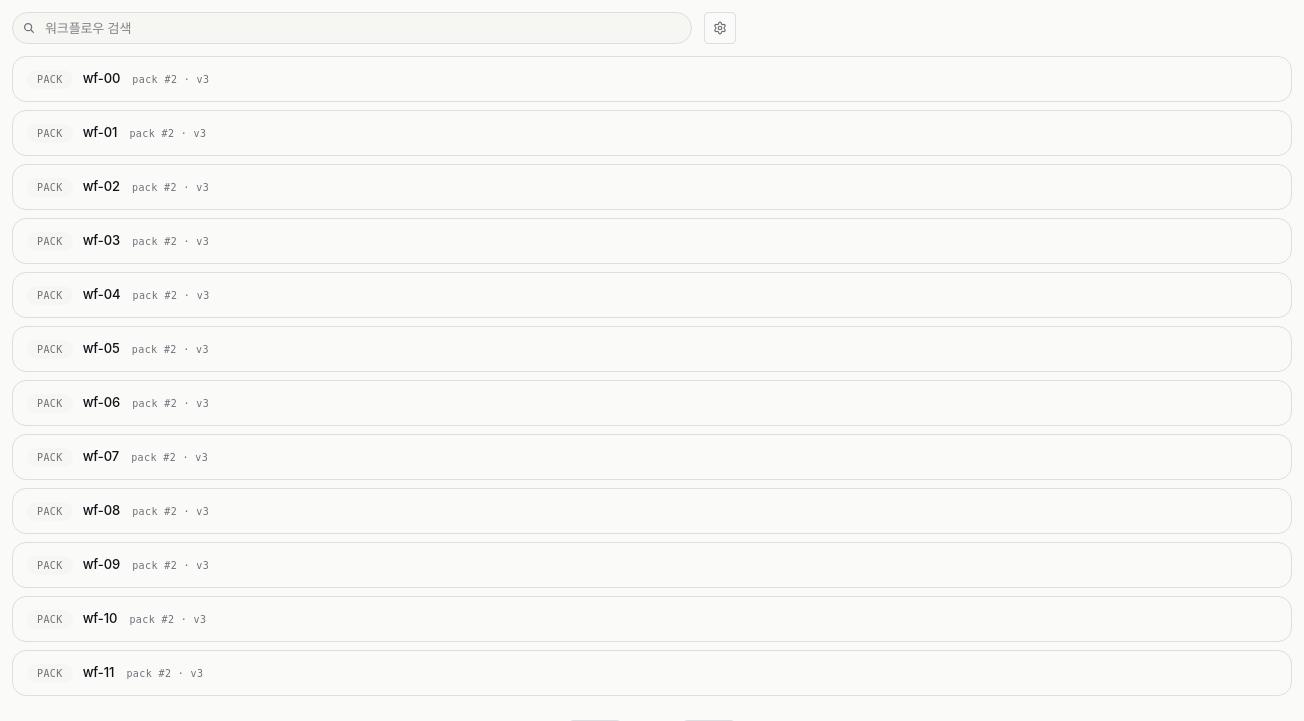
Test: WorkflowListView › 검색바 입력 후 dropdown 항목 클릭 시 그리드가 그 워크플로우만 남고 필터 칩이 표시된다
In the field with test id "wl-search-input": (352,28) [12,12,692,44], type "wf-15"
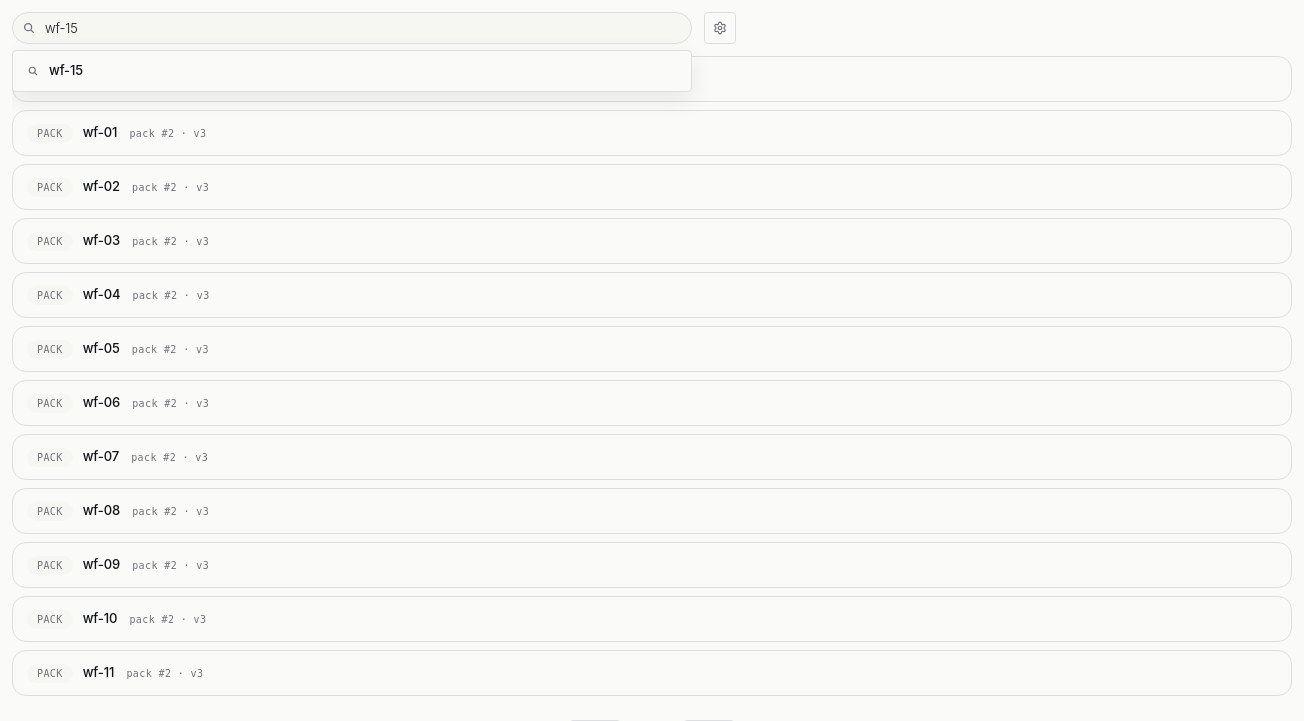
Click the button with test id "wl-search-item-16": (66,70) [13,51,691,90]
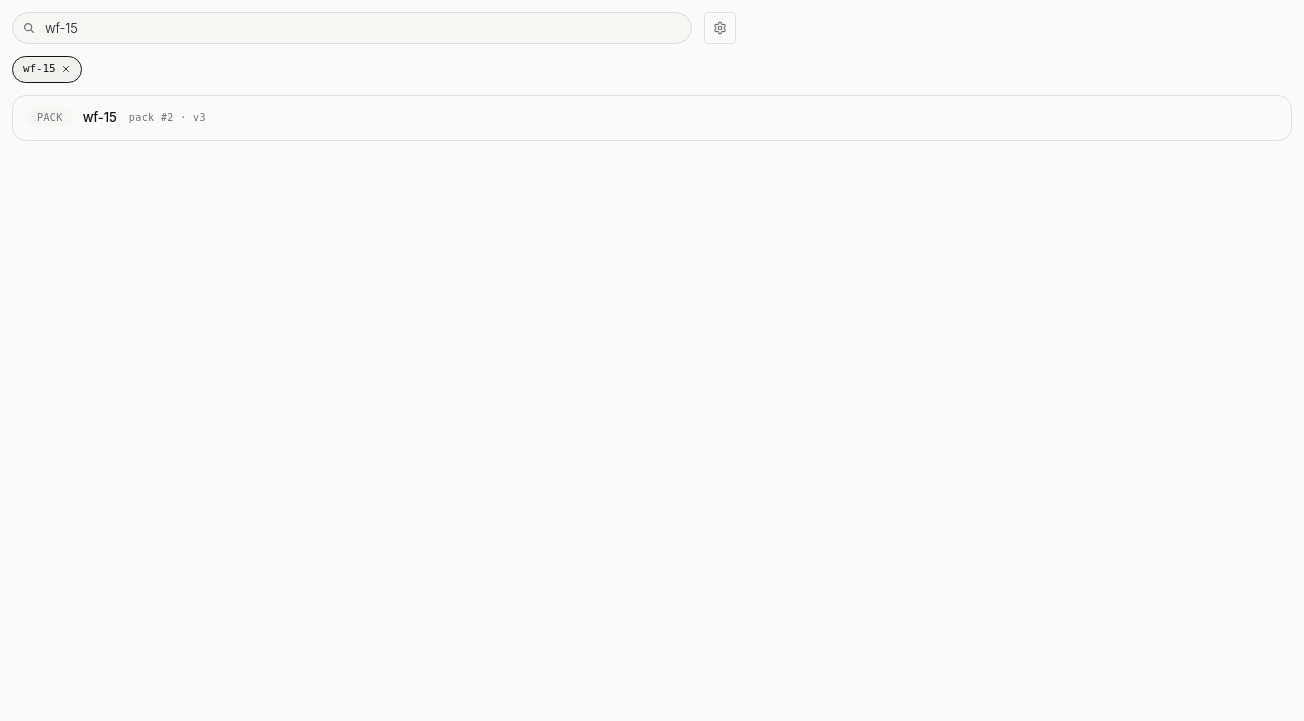
Now the element with test id "wl-card-16" is shown, box [12,94,1292,140]
Now the element with test id "wl-card-1" is gone
Now the button with test id "wl-filter-chip" reads "wf-15", box [12,56,82,82]
